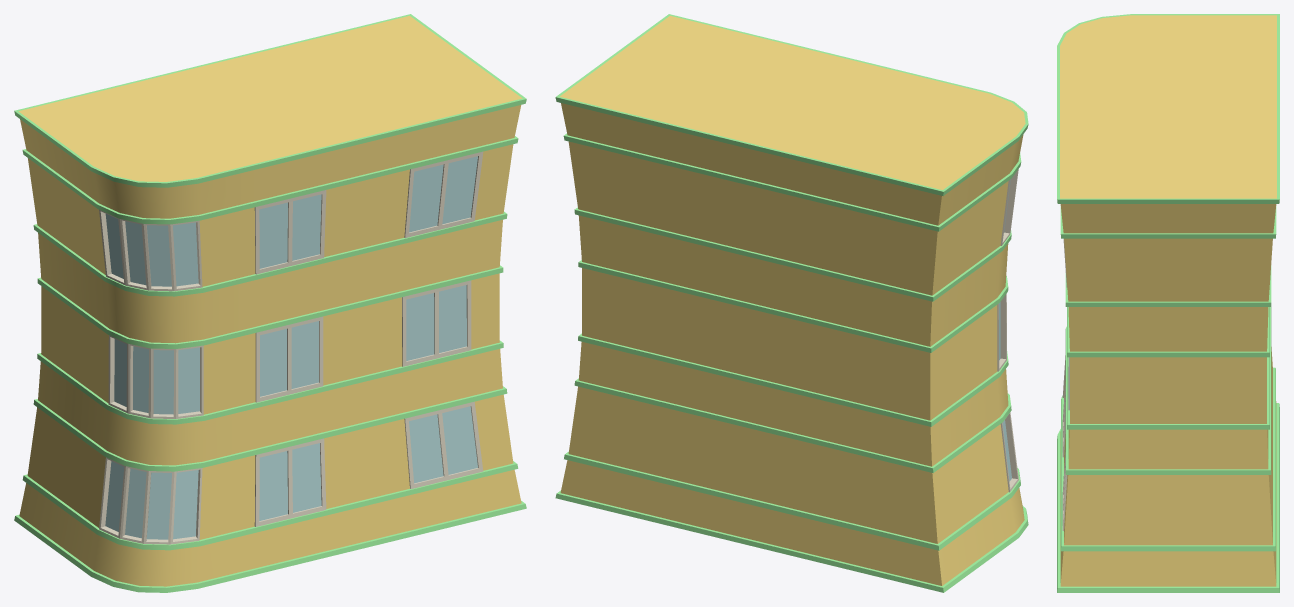
Rendered from Tentacle_Building_004.FBX.
3 views of the same model, side by side, from view 1: azimuth 30°, elevation 25°; view 2: azimuth 150°, elevation 25°; view 3: azimuth 270°, elevation 25° (orthographic). The views are drawn at different scales.
Visible parts, largest first — view 1: Tentacule_Building_009; view 2: Tentacule_Building_009; view 3: Tentacule_Building_009.
Boxes of the visible parts, left/top/right/bottom form: Tentacule_Building_009: left=14, top=14, right=526, bottom=592; Tentacule_Building_009: left=555, top=14, right=1028, bottom=592; Tentacule_Building_009: left=1057, top=14, right=1279, bottom=592.
Bounding box in the file's own units: 304 × 300 × 154.
